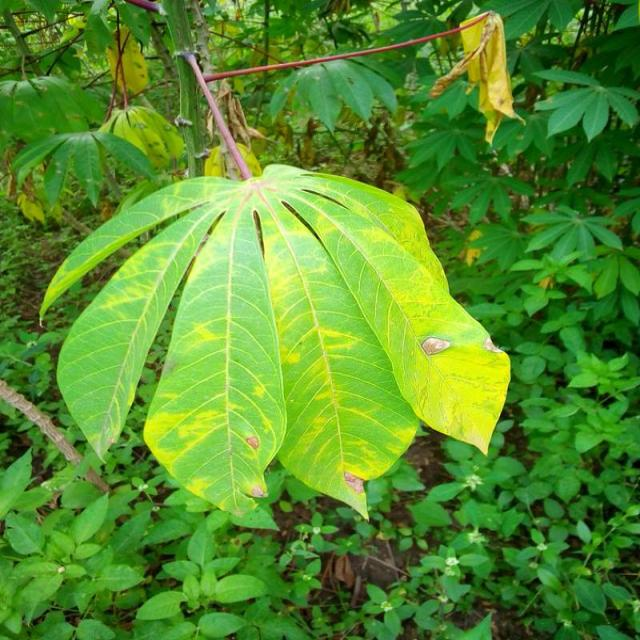cassava leaf: (40, 152, 512, 522)
